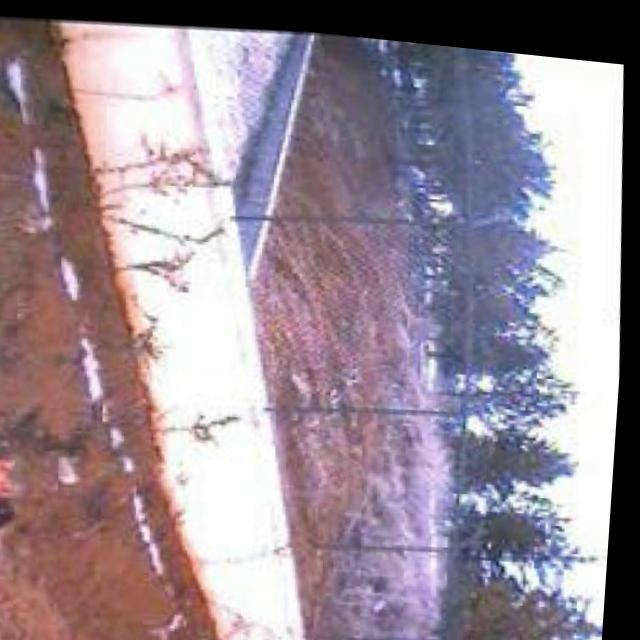fire: (0, 450, 40, 574)
